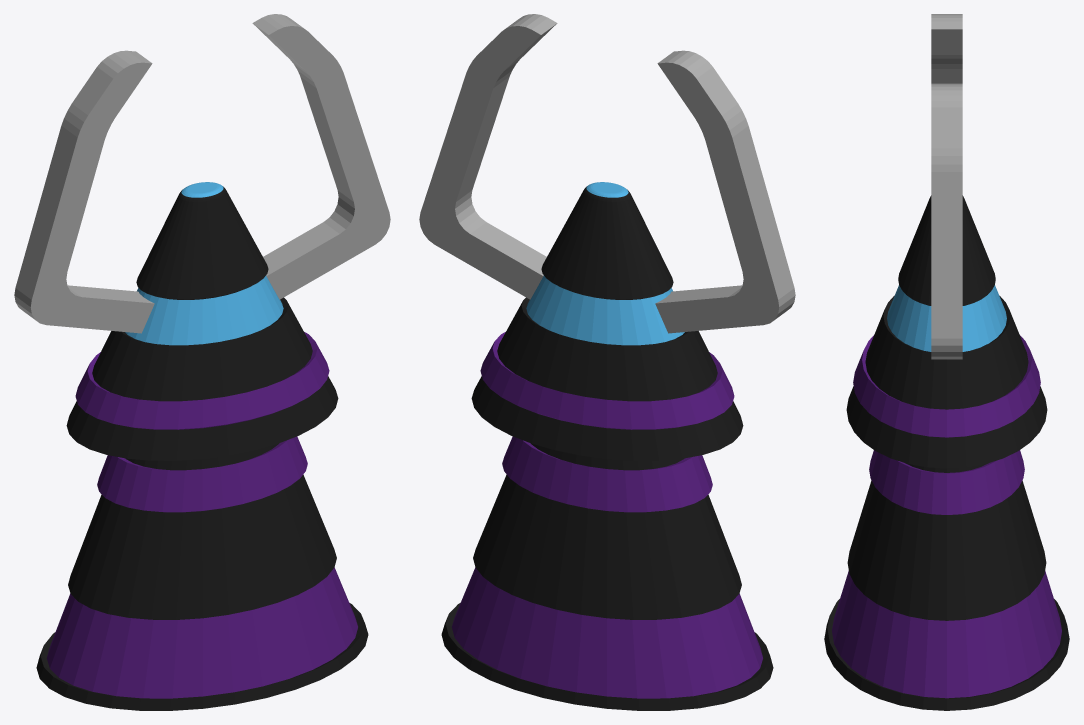
The model's file is MageTower.fbx.
The picture shows the model from 3 angles, left to right: view 1: azimuth 30°, elevation 25°; view 2: azimuth 150°, elevation 25°; view 3: azimuth 270°, elevation 25°; orthographic projection. The views are drawn at different scales.
Visible parts, largest first — view 1: Cone; view 2: Cone; view 3: Cone.
Part boxes in pixels (x1,y1,x2,y2): Cone: [14, 14, 390, 710]; Cone: [419, 14, 795, 710]; Cone: [824, 14, 1069, 710].
Bounding box in the file's own units: 287 × 467 × 177.
